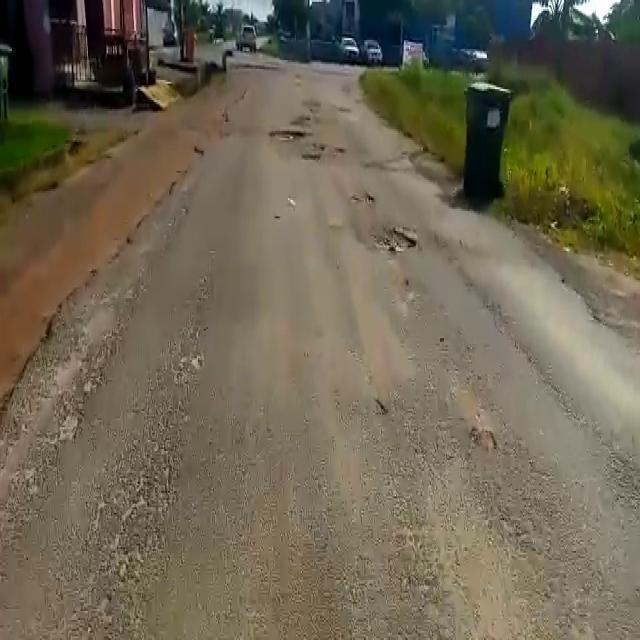pothole: (376, 226, 423, 256), (269, 126, 307, 140), (300, 147, 331, 162)
